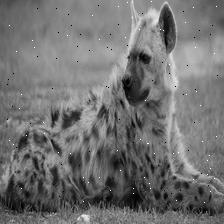hyena: (7, 1, 224, 211)
